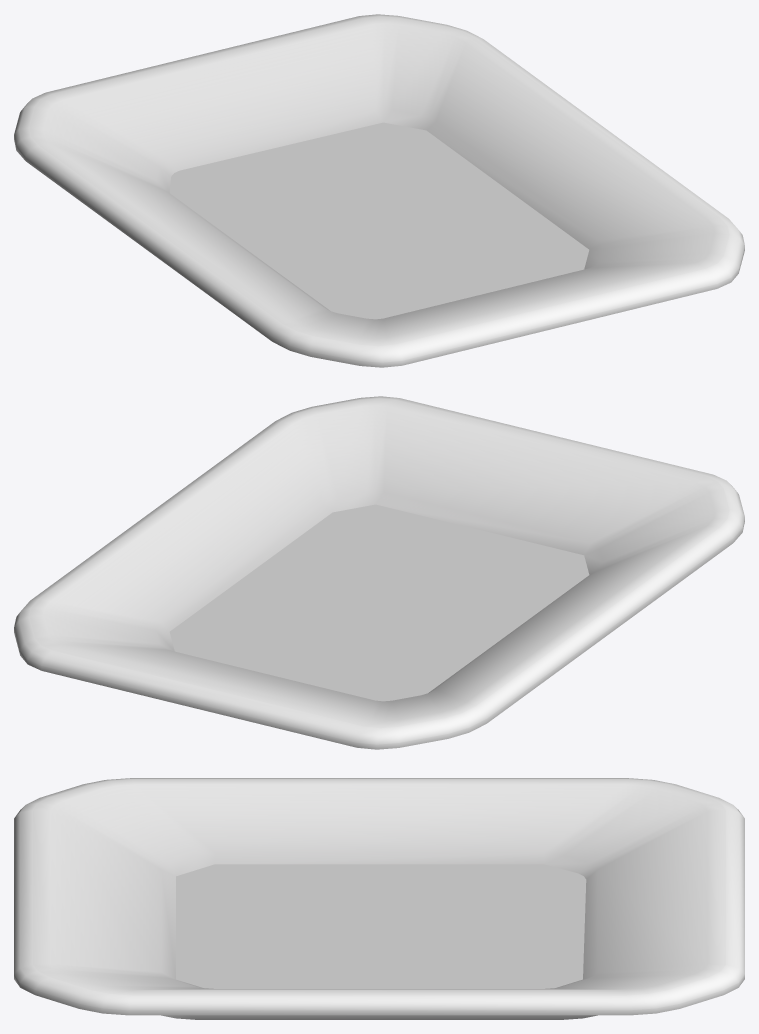
File: plate_002.fbx
The picture shows the model from 3 angles, top to bottom: view 1: azimuth 30°, elevation 25°; view 2: azimuth 150°, elevation 25°; view 3: azimuth 270°, elevation 25°; orthographic projection.
Parts seen in each view (by area): view 1: plate_002; view 2: plate_002; view 3: plate_002.
Boxes of the visible parts, box(x1,y1,x2,y2) form: plate_002: box(14, 14, 744, 367); plate_002: box(14, 396, 744, 749); plate_002: box(14, 778, 744, 1019).
Size of the model in its own units: 21.76 by 29.49 by 2.17.
